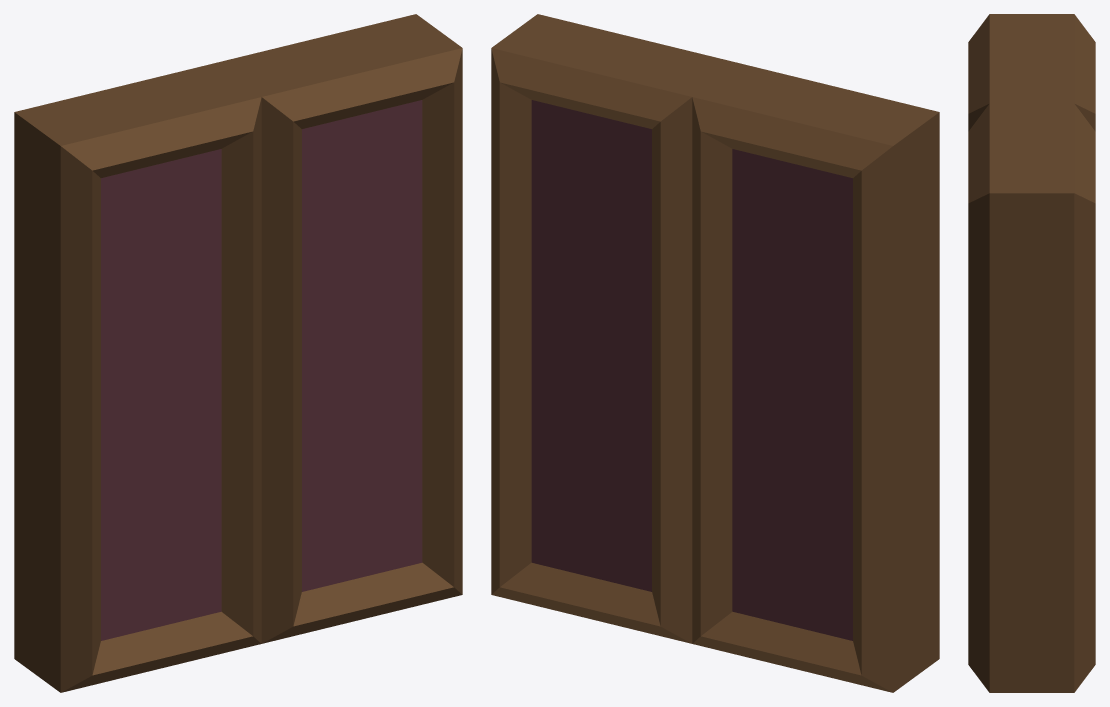
The model's file is window-wood.fbx.
3 renders of one model, left to right at view 1: azimuth 30°, elevation 25°; view 2: azimuth 150°, elevation 25°; view 3: azimuth 270°, elevation 25°, orthographic. The views are drawn at different scales.
Parts seen in each view (by area): view 1: window-wood; view 2: window-wood; view 3: window-wood.
Part boxes in pixels (left/top/right/bottom): window-wood: left=14, top=14, right=462, bottom=692; window-wood: left=491, top=14, right=939, bottom=692; window-wood: left=968, top=14, right=1095, bottom=692.
Bounding box in the file's own units: 1 × 1.3 × 0.3.
